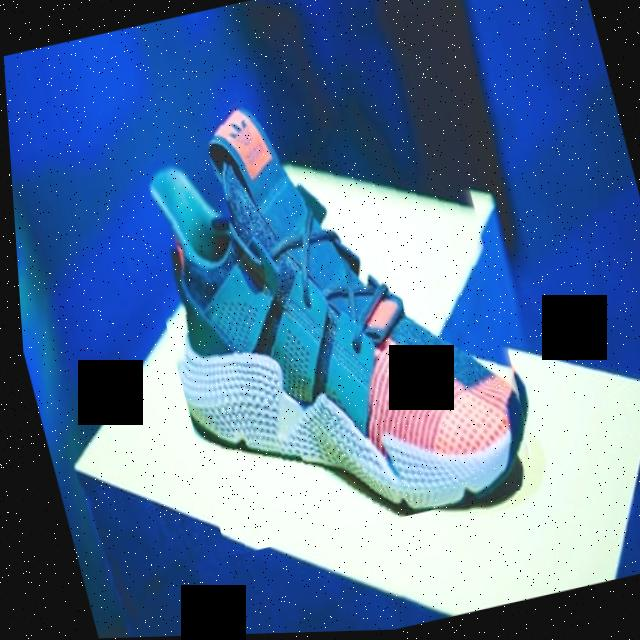shoe: (108, 48, 546, 560)
